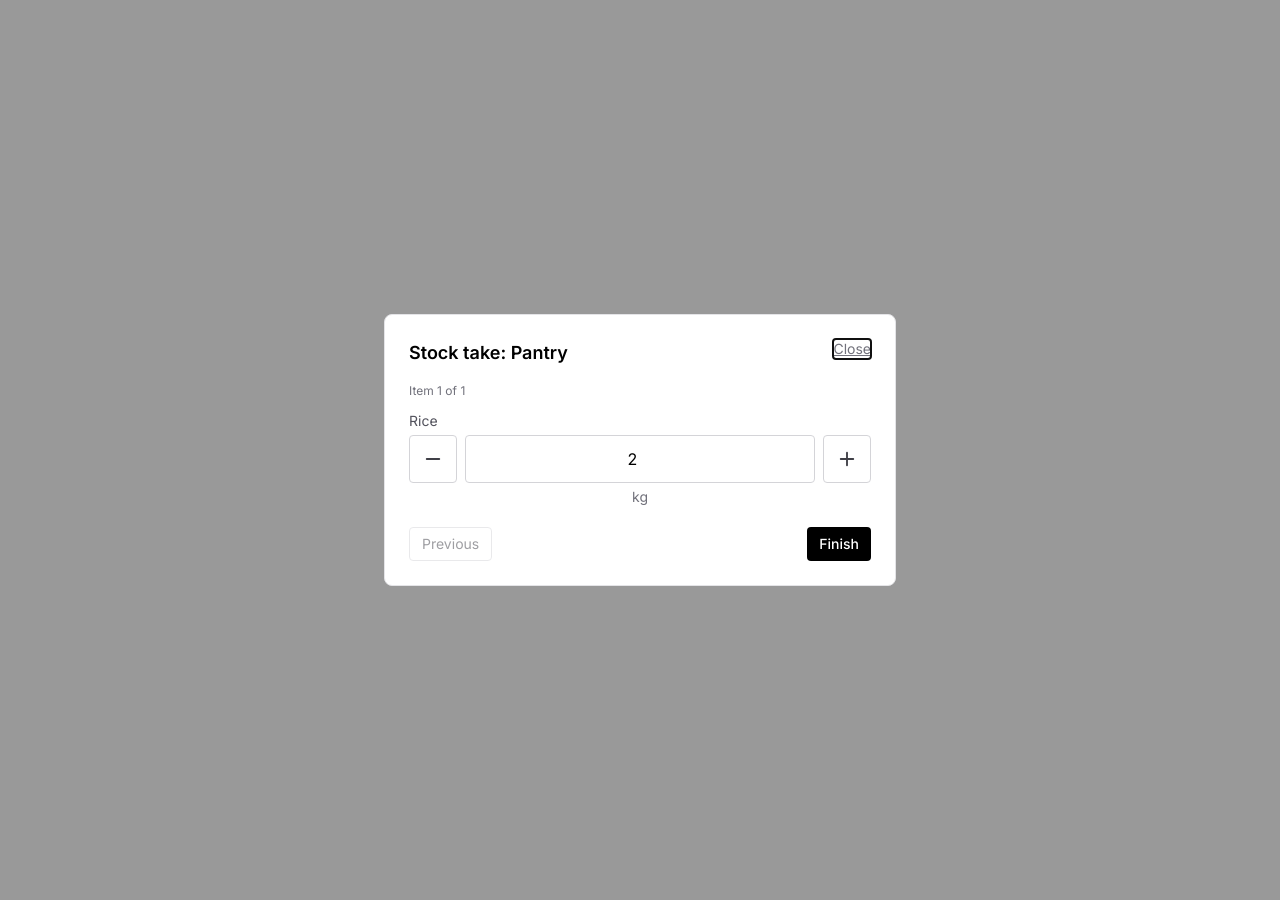
Test case: StockToShelfDialog › shows an error and does not save on an invalid value
Replace the text in the number field with "-1" at (640, 459), box [465, 435, 815, 483]
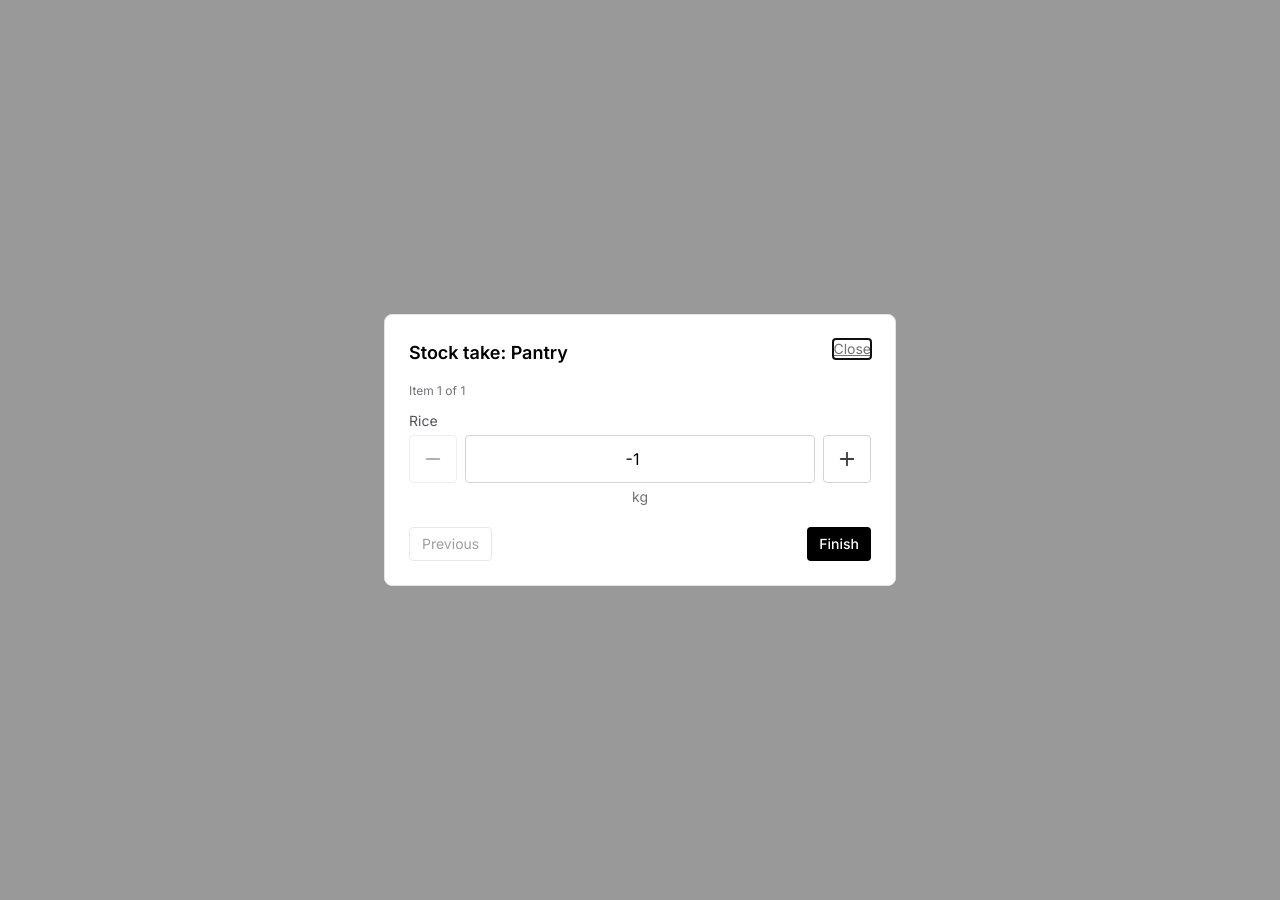
Leave the number field, box [465, 435, 815, 483]
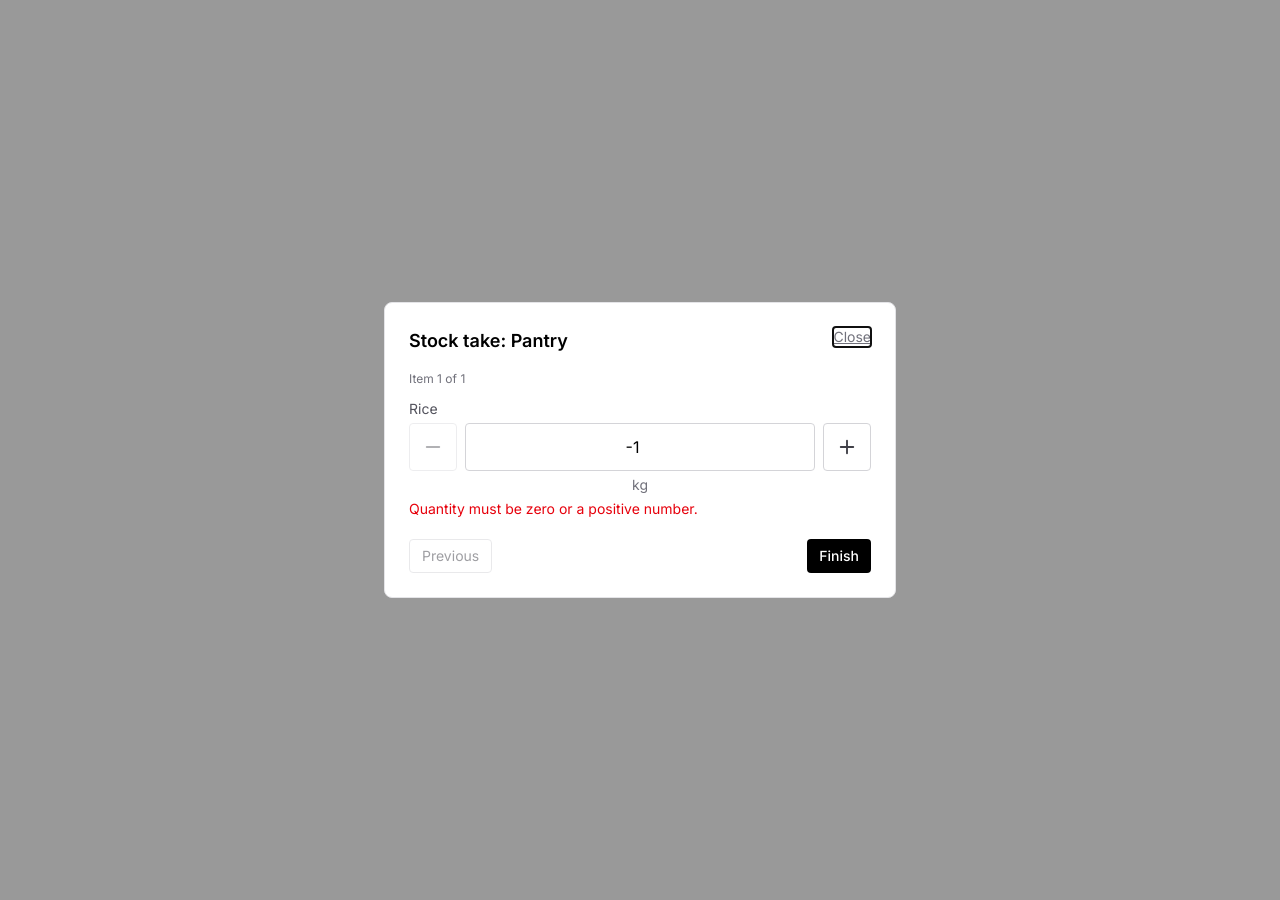
Check: the text "Quantity must be zero or a positive number." is shown, box [409, 500, 698, 517]
